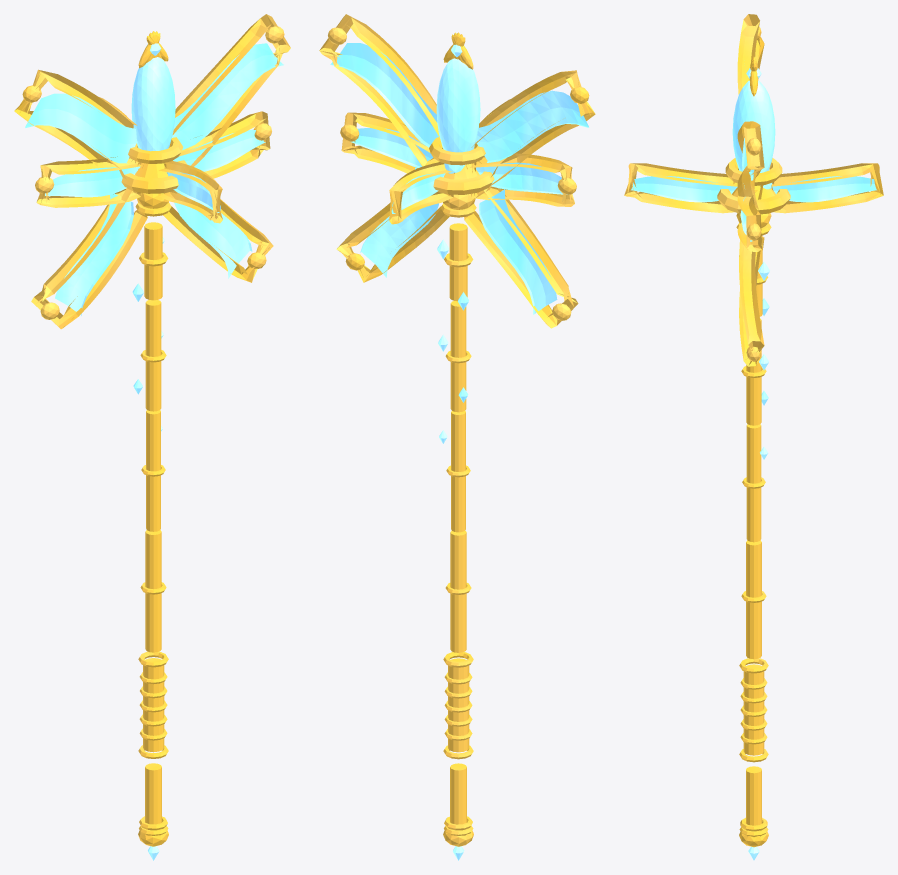
Rendered from azure_staff.glb.
3 renders of one model, left to right at view 1: azimuth 30°, elevation 25°; view 2: azimuth 150°, elevation 25°; view 3: azimuth 270°, elevation 25°, orthographic. The views are drawn at different scales.
Visible parts, largest first — view 1: metal, glow; view 2: metal, glow; view 3: metal, glow.
Boxes of the visible parts, <box> form: metal: <box>14,14,290,846</box>; glow: <box>25,43,283,860</box>; metal: <box>319,14,595,846</box>; glow: <box>330,43,588,860</box>; metal: <box>624,14,883,847</box>; glow: <box>631,68,876,860</box>.
Size of the model in its own units: 0.4854 by 1.41 by 0.4135.
Materials: 2 (2 with a texture image).
